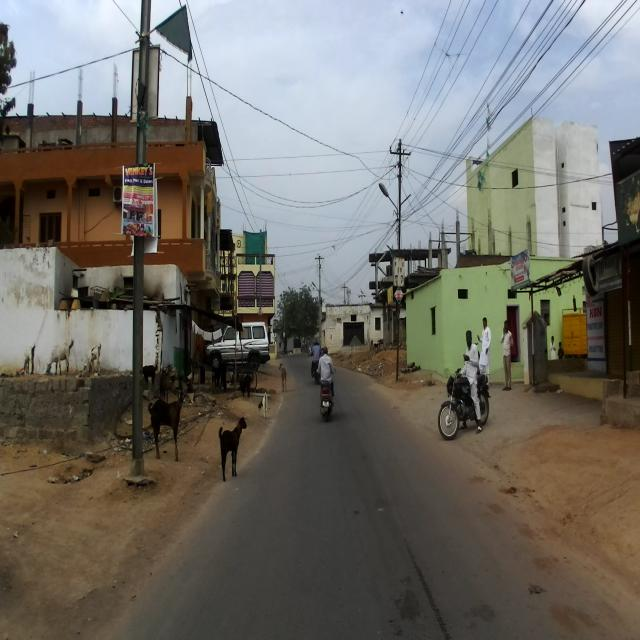Dog ahead at: (212, 404, 250, 484)
electric pole ahead at: (116, 0, 166, 495)
motorcycle ahead at: (438, 364, 502, 446)
